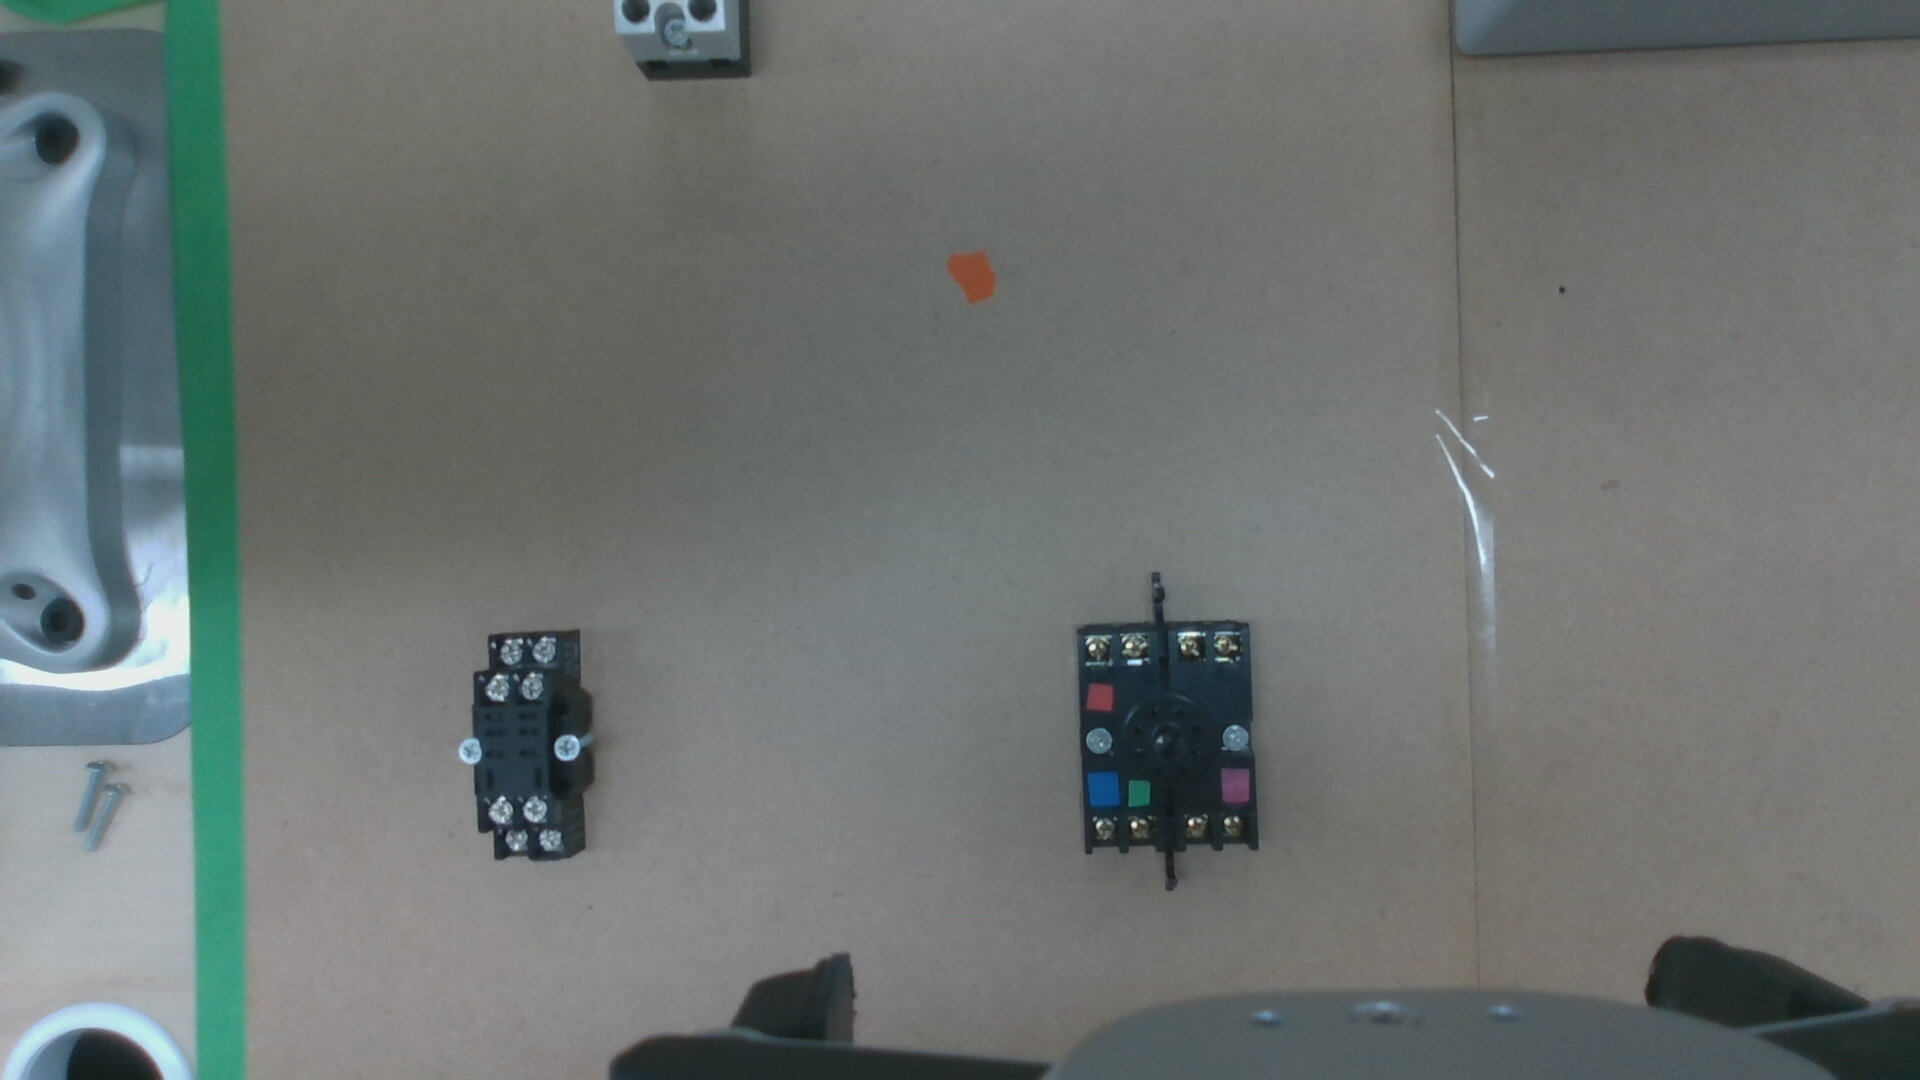relay 3: (530, 640, 556, 663)
relay 4: (496, 640, 521, 662)
relay 5: (537, 831, 560, 851)
relay 6: (498, 829, 526, 853)
relay 7: (521, 796, 545, 820)
relay 8: (485, 799, 512, 823)
